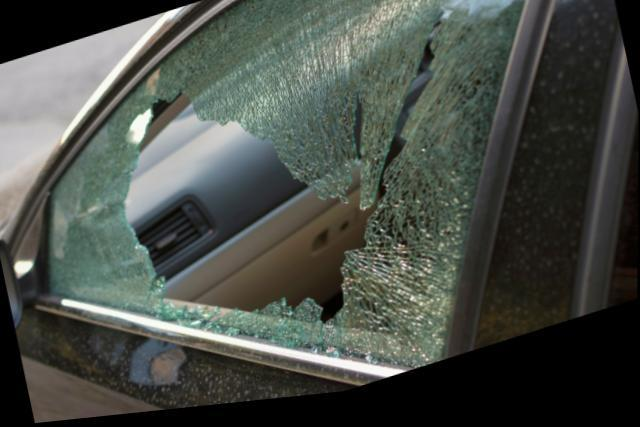glass shatter: (48, 0, 529, 378)
